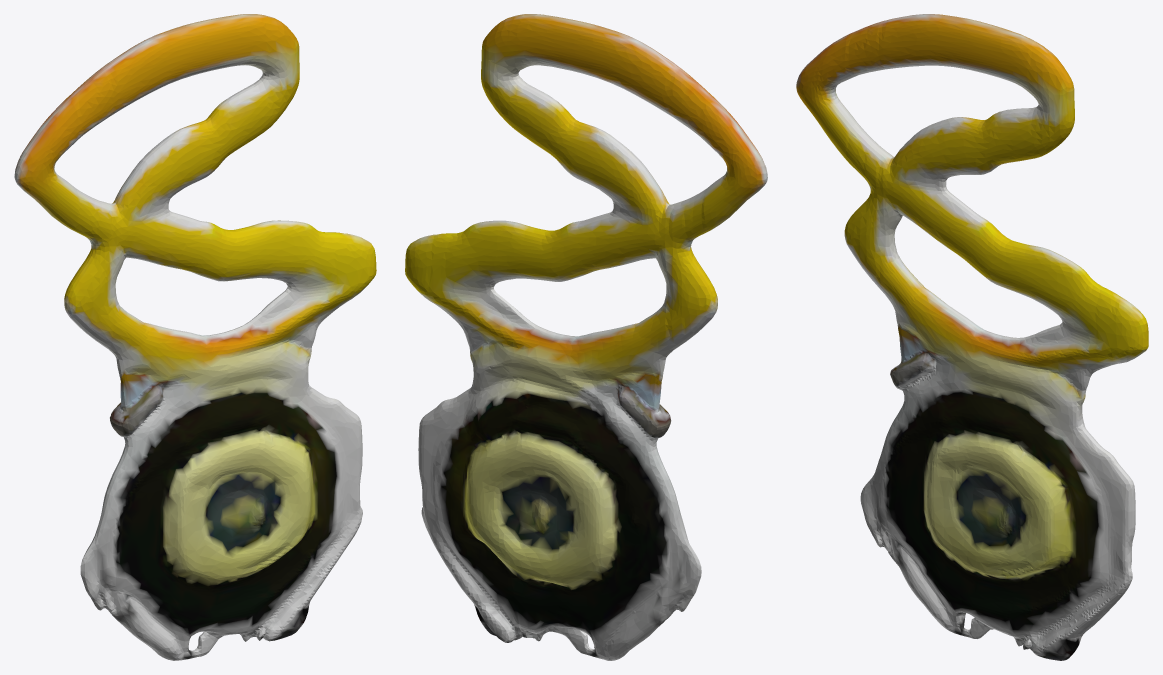
The model's file is amulet_destruction.glb.
The picture shows the model from 3 angles, left to right: view 1: azimuth 30°, elevation 25°; view 2: azimuth 150°, elevation 25°; view 3: azimuth 330°, elevation 25°; orthographic projection. The views are drawn at different scales.
Parts seen in each view (by area): view 1: geometry_0; view 2: geometry_0; view 3: geometry_0.
Boxes of the visible parts, x1,y1,x2,y2 form: geometry_0: [14, 14, 376, 660]; geometry_0: [405, 14, 767, 660]; geometry_0: [796, 14, 1148, 660].
Size of the model in its own units: 0.4375 by 0.7357 by 0.0772.
